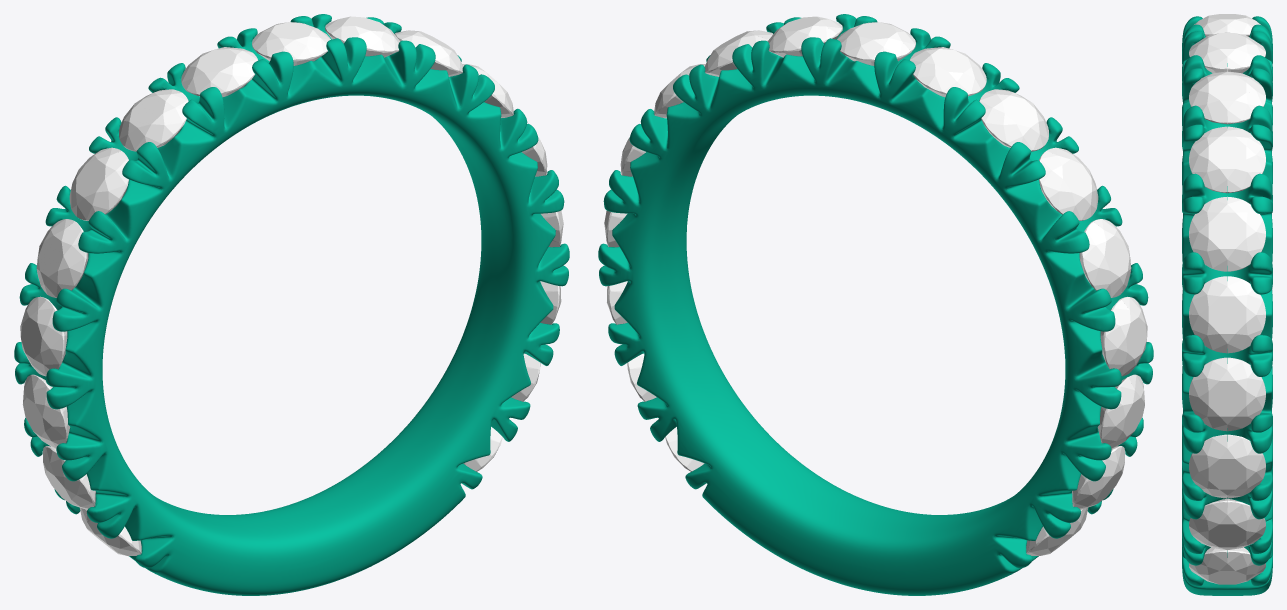
File: BE2D8721P_RENDER.glb
The picture shows the model from 3 angles, left to right: view 1: azimuth 30°, elevation 25°; view 2: azimuth 150°, elevation 25°; view 3: azimuth 270°, elevation 25°; orthographic projection. The views are drawn at different scales.
Visible parts, largest first — view 1: Metal03, Diamond_Round_Gem_BD.011, Diamond_Round_Gem_BD.010, Diamond_Round_Gem_BD.012, Diamond_Round_Gem_BD.009, Diamond_Round_Gem_BD.013, Diamond_Round_Gem_BD.008, Diamond_Round_Gem_BD.014, Diamond_Round_Gem_BD.007, Diamond_Round_Gem_BD.015, Diamond_Round_Gem_BD.006, Diamond_Round_Gem_BD.016; view 2: Metal03, Diamond_Round_Gem_BD.011, Diamond_Round_Gem_BD.010, Diamond_Round_Gem_BD.012, Diamond_Round_Gem_BD.009, Diamond_Round_Gem_BD.013, Diamond_Round_Gem_BD.008, Diamond_Round_Gem_BD.014, Diamond_Round_Gem_BD.007, Diamond_Round_Gem_BD.015, Diamond_Round_Gem_BD.006, Diamond_Round_Gem_BD.016; view 3: Metal03, Diamond_Round_Gem_BD.004, Diamond_Round_Gem_BD.005, Diamond_Round_Gem_BD.003, Diamond_Round_Gem_BD.006, Diamond_Round_Gem_BD.002, Diamond_Round_Gem_BD.007, Diamond_Round_Gem_BD.001, Diamond_Round_Gem_BD.008, Diamond_Round_Gem_BD, Diamond_Round_Gem_BD.009.
Boxes of the visible parts, left/top/right/bottom form: Metal03: left=14, top=14, right=569, bottom=595; Diamond_Round_Gem_BD.011: left=69, top=147, right=128, bottom=220; Diamond_Round_Gem_BD.010: left=119, top=89, right=188, bottom=151; Diamond_Round_Gem_BD.012: left=36, top=219, right=88, bottom=297; Diamond_Round_Gem_BD.009: left=181, top=47, right=257, bottom=97; Diamond_Round_Gem_BD.013: left=20, top=296, right=67, bottom=376; Diamond_Round_Gem_BD.008: left=252, top=22, right=330, bottom=65; Diamond_Round_Gem_BD.014: left=22, top=374, right=70, bottom=448; Diamond_Round_Gem_BD.007: left=325, top=16, right=400, bottom=57; Diamond_Round_Gem_BD.015: left=43, top=446, right=95, bottom=509; Diamond_Round_Gem_BD.006: left=394, top=30, right=463, bottom=76; Diamond_Round_Gem_BD.016: left=80, top=507, right=141, bottom=556; Metal03: left=598, top=14, right=1153, bottom=595; Diamond_Round_Gem_BD.011: left=1039, top=147, right=1098, bottom=220; Diamond_Round_Gem_BD.010: left=979, top=89, right=1048, bottom=151; Diamond_Round_Gem_BD.012: left=1079, top=219, right=1131, bottom=297; Diamond_Round_Gem_BD.009: left=910, top=47, right=986, bottom=97; Diamond_Round_Gem_BD.013: left=1100, top=296, right=1147, bottom=376; Diamond_Round_Gem_BD.008: left=837, top=22, right=915, bottom=65; Diamond_Round_Gem_BD.014: left=1097, top=374, right=1144, bottom=448; Diamond_Round_Gem_BD.007: left=767, top=16, right=842, bottom=57; Diamond_Round_Gem_BD.015: left=1072, top=446, right=1124, bottom=509; Diamond_Round_Gem_BD.006: left=705, top=30, right=773, bottom=76; Diamond_Round_Gem_BD.016: left=1026, top=507, right=1087, bottom=555; Metal03: left=1182, top=16, right=1272, bottom=595; Diamond_Round_Gem_BD.004: left=1189, top=276, right=1265, bottom=353; Diamond_Round_Gem_BD.005: left=1189, top=196, right=1265, bottom=271; Diamond_Round_Gem_BD.003: left=1189, top=357, right=1265, bottom=431; Diamond_Round_Gem_BD.006: left=1189, top=126, right=1265, bottom=193; Diamond_Round_Gem_BD.002: left=1189, top=434, right=1265, bottom=498; Diamond_Round_Gem_BD.007: left=1189, top=71, right=1265, bottom=124; Diamond_Round_Gem_BD.001: left=1189, top=499, right=1265, bottom=550; Diamond_Round_Gem_BD.008: left=1189, top=32, right=1265, bottom=73; Diamond_Round_Gem_BD: left=1189, top=547, right=1265, bottom=584; Diamond_Round_Gem_BD.009: left=1194, top=14, right=1260, bottom=36.
Size of the model in its own units: 21.26 by 21.17 by 3.31.
